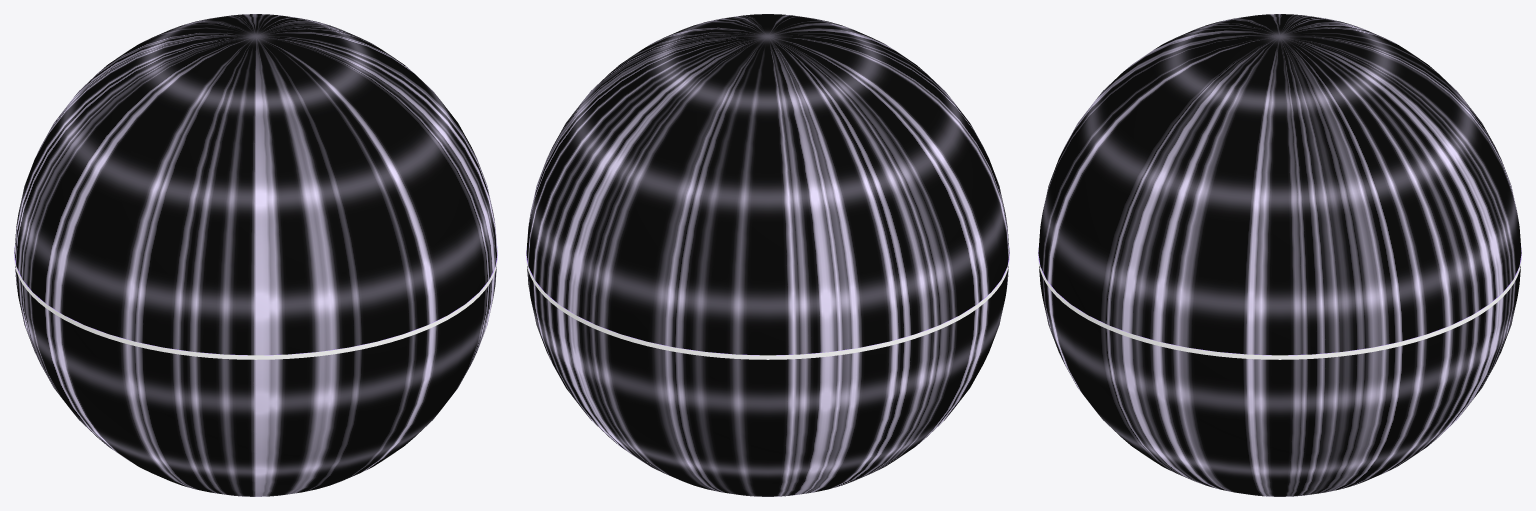
The model's file is TimeStop.glb.
The picture shows the model from 3 angles, left to right: view 1: azimuth 30°, elevation 25°; view 2: azimuth 150°, elevation 25°; view 3: azimuth 270°, elevation 25°; orthographic projection.
Visible parts, largest first — view 1: TimeBubble, ClockFace; view 2: TimeBubble, ClockFace; view 3: TimeBubble, ClockFace.
Part boxes in pixels (left/top/right/bottom): TimeBubble: left=14, top=14, right=497, bottom=496; ClockFace: left=14, top=246, right=497, bottom=359; TimeBubble: left=526, top=14, right=1009, bottom=496; ClockFace: left=526, top=246, right=1009, bottom=359; TimeBubble: left=1038, top=14, right=1521, bottom=496; ClockFace: left=1038, top=246, right=1521, bottom=359.
Size of the model in its own units: 2 by 2 by 2.
Materials: 2 (2 with a texture image).
